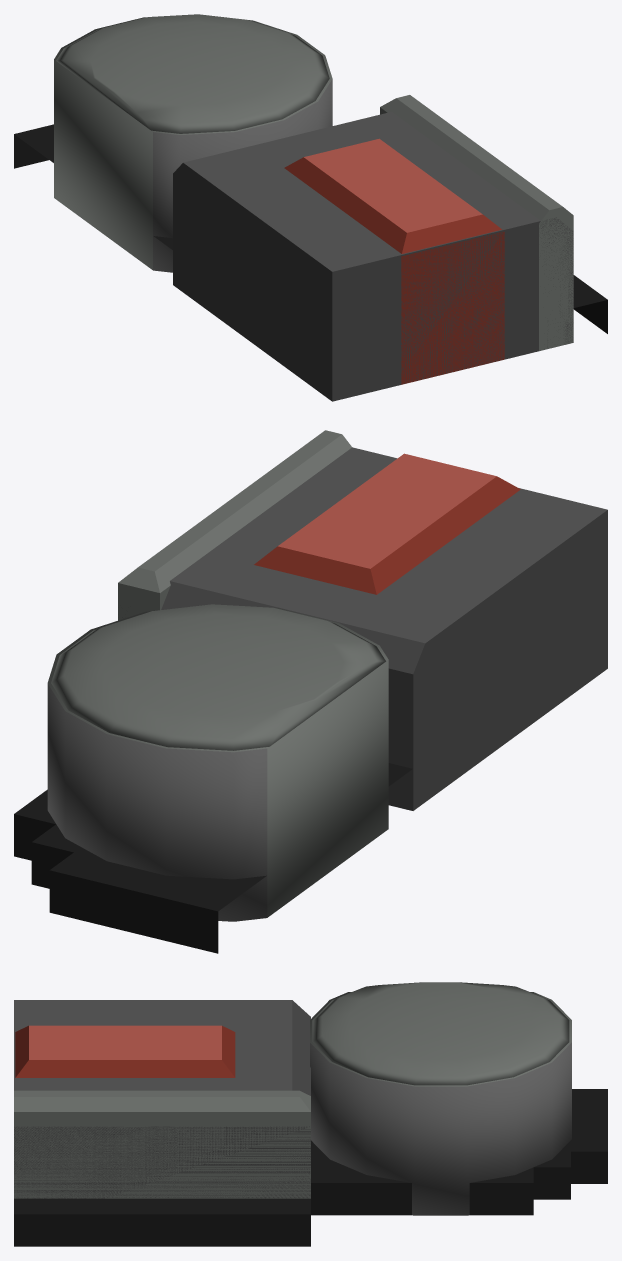
Rendered from newshu-5.glb.
The picture shows the model from 3 angles, top to bottom: view 1: azimuth 30°, elevation 25°; view 2: azimuth 150°, elevation 25°; view 3: azimuth 270°, elevation 25°; orthographic projection. The views are drawn at different scales.
Parts seen in each view (by area): view 1: newshu-5; view 2: newshu-5; view 3: newshu-5.
Part boxes in pixels (x1,y1,x2,y2): newshu-5: (14, 14, 607, 401); newshu-5: (14, 430, 607, 953); newshu-5: (14, 982, 607, 1246).
Size of the model in its own units: 0.6667 by 0.355 by 1.33.
